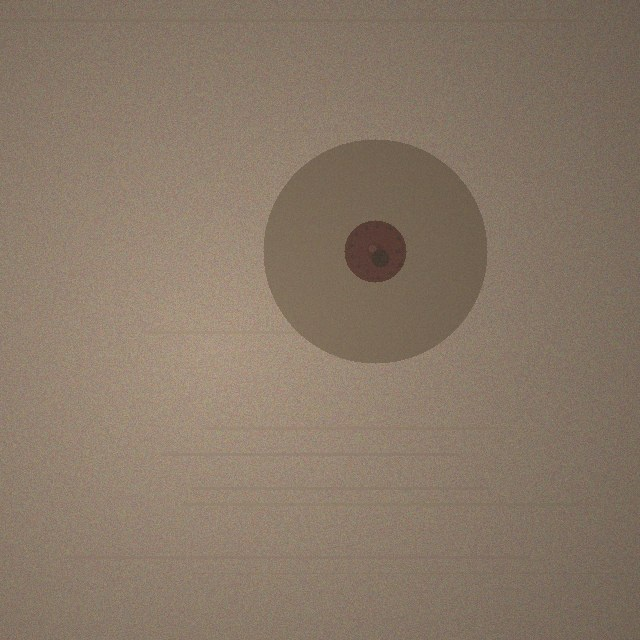cold_weld: (263, 139, 487, 363)
